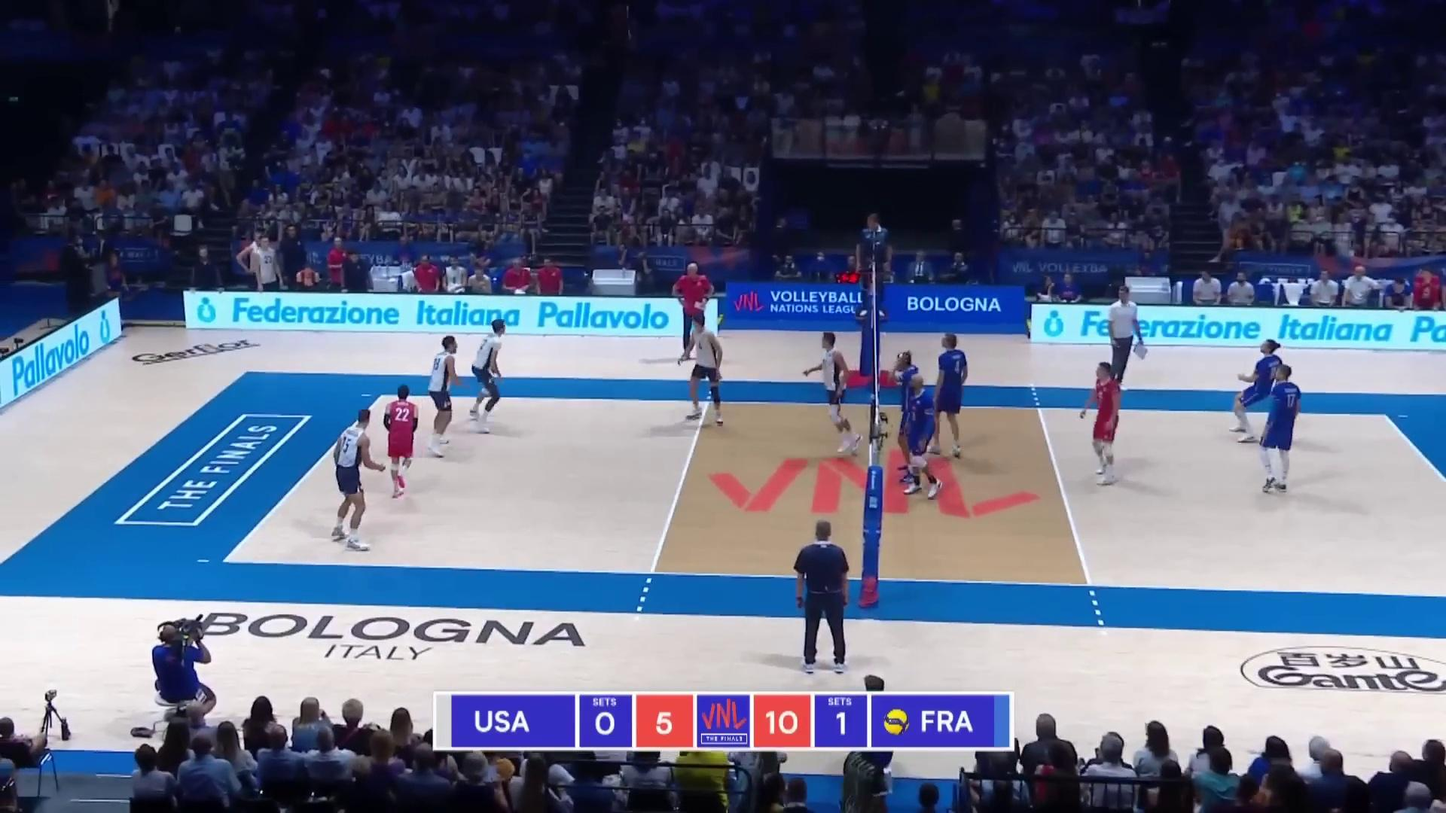player: (802, 331, 860, 455), (330, 413, 379, 552), (1083, 360, 1127, 485), (1234, 343, 1290, 441), (376, 387, 422, 502), (898, 374, 941, 497), (1260, 364, 1300, 494), (931, 333, 971, 456), (679, 317, 723, 426), (885, 350, 923, 467), (470, 320, 509, 432), (427, 337, 461, 455)
refree: (793, 518, 851, 670), (852, 213, 890, 318)
